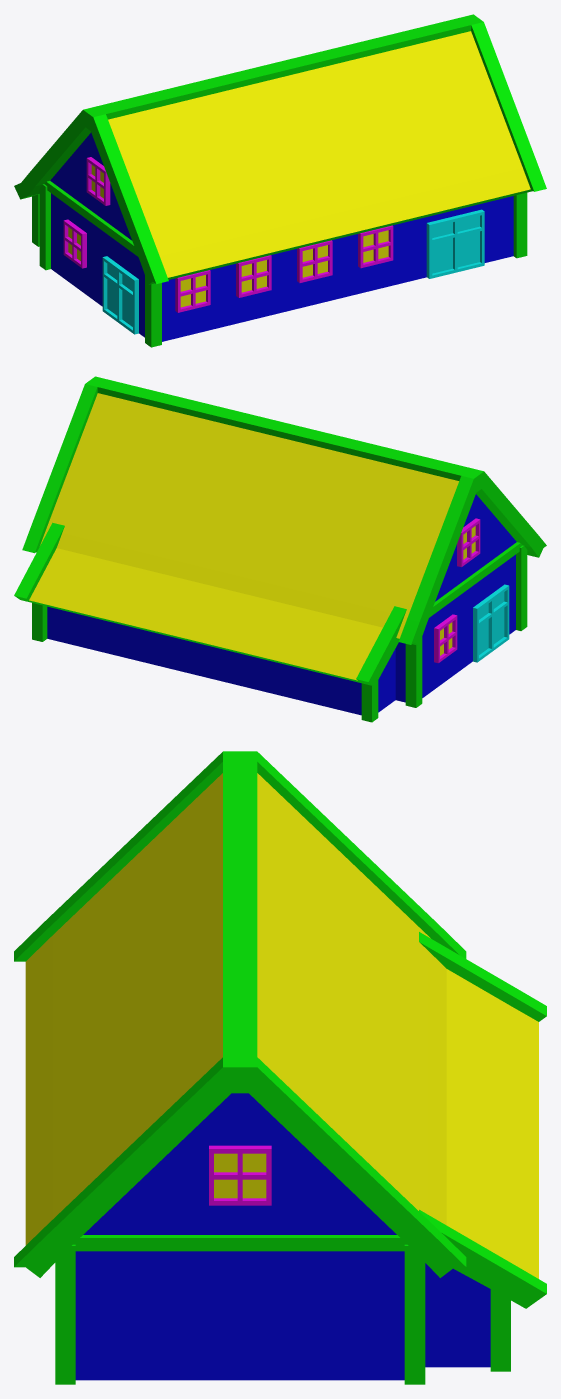
Rendered from PlaytestHouse_01_model.fbx.
The picture shows the model from 3 angles, top to bottom: view 1: azimuth 30°, elevation 25°; view 2: azimuth 150°, elevation 25°; view 3: azimuth 270°, elevation 25°; orthographic projection. The views are drawn at different scales.
Visible parts, largest first — view 1: House_04; view 2: House_04; view 3: House_04.
Part boxes in pixels (bbox=[...]): House_04: bbox=[14, 14, 546, 347]; House_04: bbox=[14, 376, 546, 722]; House_04: bbox=[14, 751, 546, 1384].
Bounding box in the file's own units: 1283 × 612 × 915.
